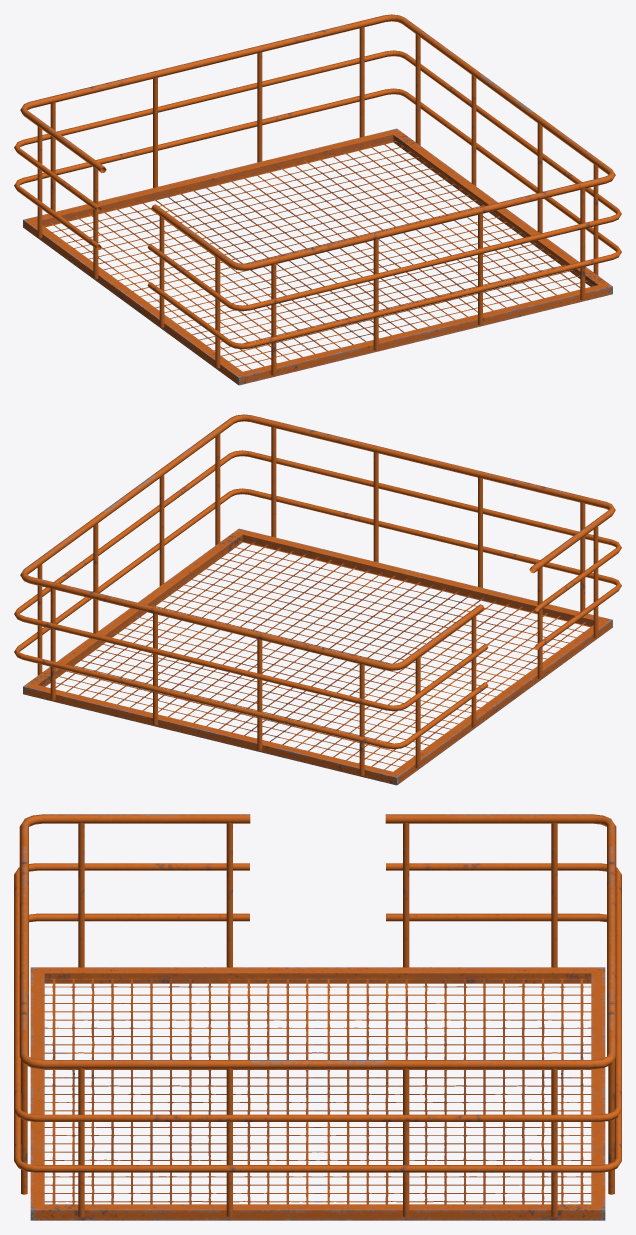
File: Platform_07.fbx
The picture shows the model from 3 angles, top to bottom: view 1: azimuth 30°, elevation 25°; view 2: azimuth 150°, elevation 25°; view 3: azimuth 270°, elevation 25°; orthographic projection. The views are drawn at different scales.
Parts seen in each view (by area): view 1: Platform_07_LOD0; view 2: Platform_07_LOD0; view 3: Platform_07_LOD0.
Boxes of the visible parts, x1,y1,x2,y2 form: Platform_07_LOD0: [14, 14, 621, 385]; Platform_07_LOD0: [14, 414, 621, 785]; Platform_07_LOD0: [14, 814, 621, 1220].
Size of what is drawn, in the model's own units: 3.23 by 0.9516 by 3.26.
